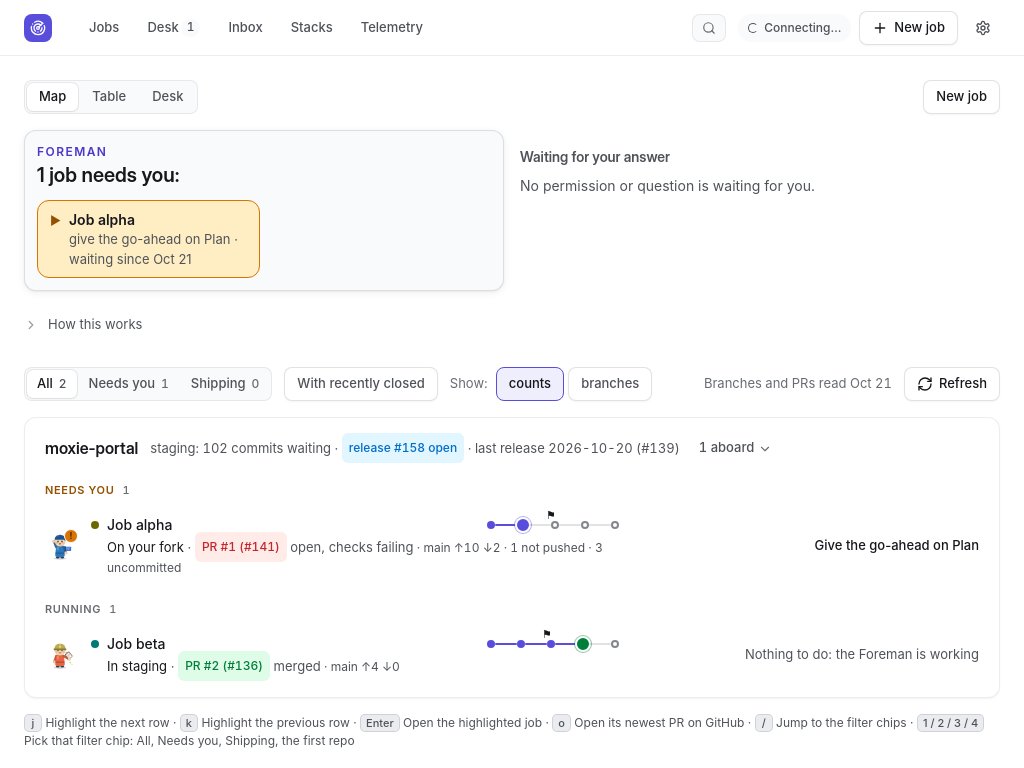
Test: Home: the flow map as rows › Refresh asks the dashboard to read the branches and PRs now; a flow event updates the rows
Expected: the list named "Needs you jobs in moxie-portal" is shown, [33, 506, 991, 585]
Click the button "Refresh". click: (952, 384)
box: [904, 367, 1000, 401]
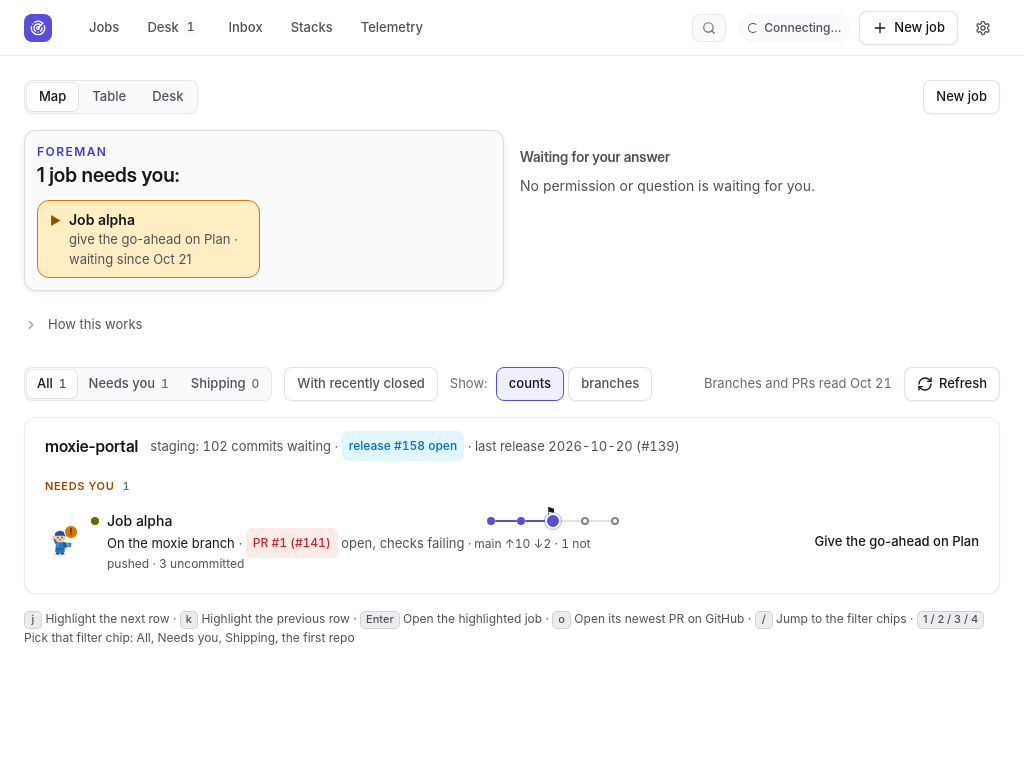
Expected: the text "Reading branches and PRs…" is shown, [704, 374, 892, 394]
Expected: the text with class "map-row-where" reads "On the moxie branch", [107, 535, 235, 551]
